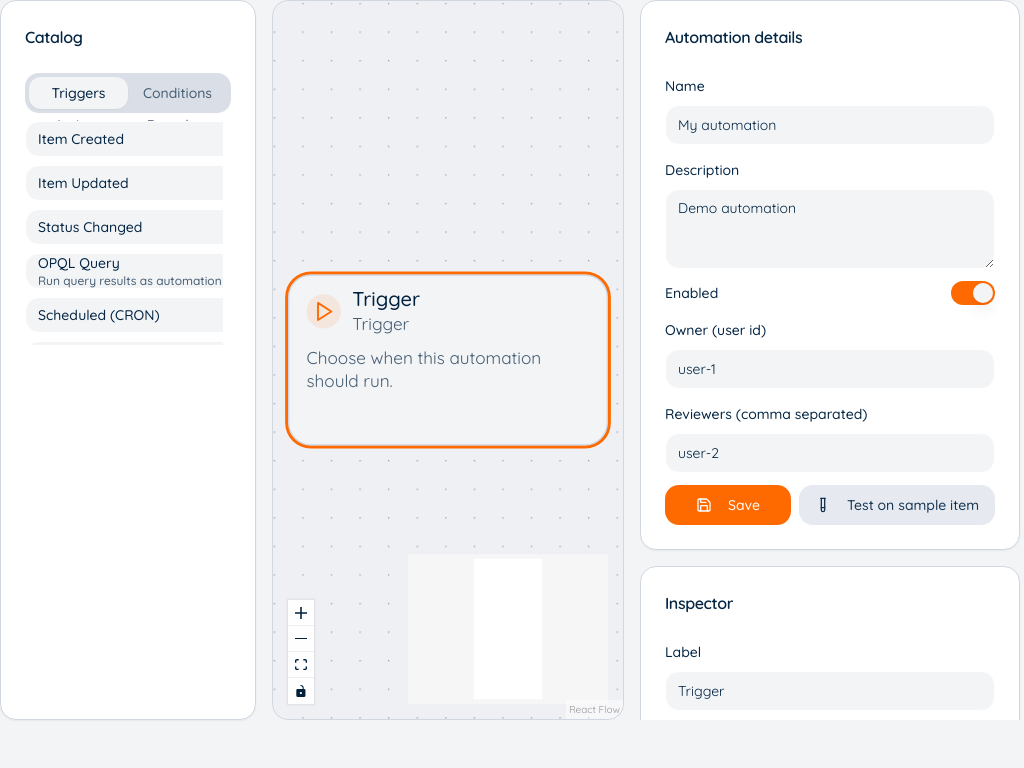
Test: AutomationBuilder › saves automation and updates version list
This screenshot has width=1024, height=768.
Click the button "Save" at (728, 505), box [665,485,791,525]
(page scrolled)
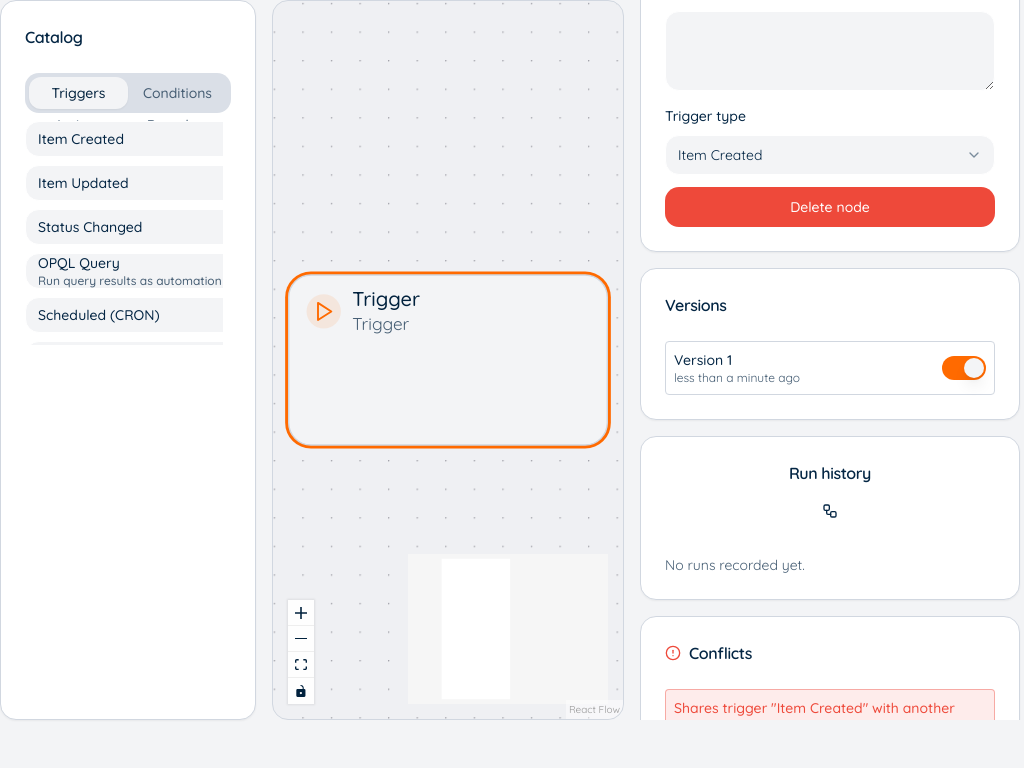
Now the text "Version 1" is shown, box [674,351,732,369]
